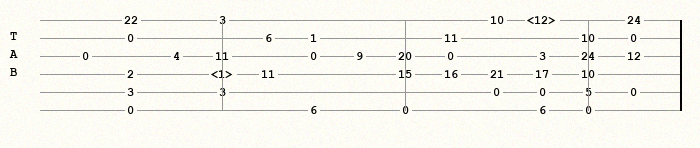0: (82, 50, 93, 62), (127, 32, 138, 44), (127, 104, 138, 116), (310, 50, 321, 62), (402, 104, 413, 116), (447, 50, 458, 62), (493, 86, 504, 98), (539, 86, 550, 98), (585, 104, 596, 116), (630, 86, 641, 98), (630, 32, 641, 44)
1: (310, 32, 321, 44)
10: (490, 14, 508, 26), (581, 32, 599, 44), (581, 68, 599, 80)
11: (215, 50, 233, 62), (261, 68, 279, 80), (444, 32, 462, 44)
12: (627, 50, 645, 62)
15: (398, 68, 416, 80)
16: (444, 68, 462, 80)
17: (535, 68, 553, 80)
2: (127, 68, 138, 80)
20: (398, 50, 416, 62)
21: (490, 68, 508, 80)
22: (124, 14, 142, 26)
24: (581, 50, 599, 62), (627, 14, 645, 26)
3: (127, 86, 138, 98), (219, 86, 230, 98), (219, 14, 230, 26), (539, 50, 550, 62)
4: (173, 50, 184, 62)
5: (585, 86, 596, 98)
6: (265, 32, 276, 44), (310, 104, 321, 116), (539, 104, 550, 116)
9: (356, 50, 367, 62)
harmonic: (527, 14, 561, 26), (211, 68, 238, 80)
